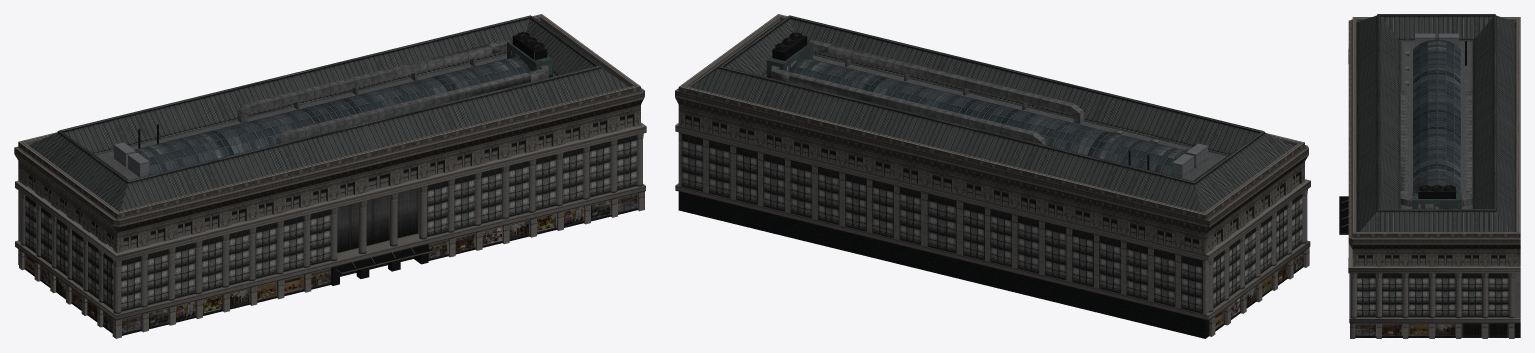
3 renders of one model, left to right at view 1: azimuth 30°, elevation 25°; view 2: azimuth 150°, elevation 25°; view 3: azimuth 270°, elevation 25°, orthographic. The views are drawn at different scales.
Visible parts, largest first — view 1: AIT01W2W6; view 2: AIT01W2W6; view 3: AIT01W2W6.
Part boxes in pixels (left/top/right/bottom): AIT01W2W6: left=14, top=14, right=646, bottom=338; AIT01W2W6: left=675, top=14, right=1310, bottom=338; AIT01W2W6: left=1339, top=14, right=1520, bottom=338.
Bounding box in the file's own units: 9421 × 2499 × 3279.
Materials: 1 (1 with a texture image).
